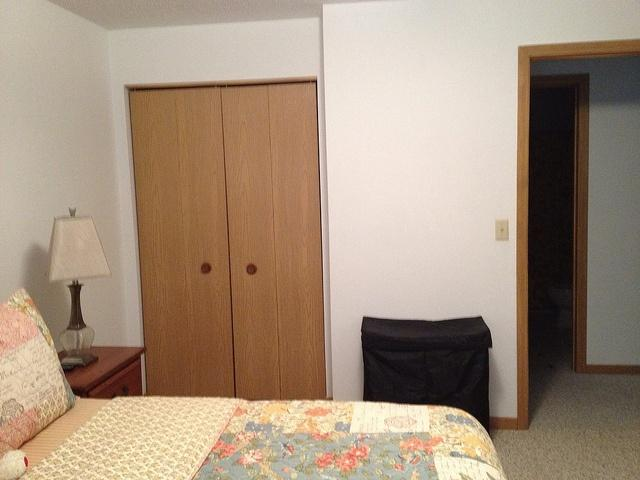Lemari: (125, 76, 326, 399)
